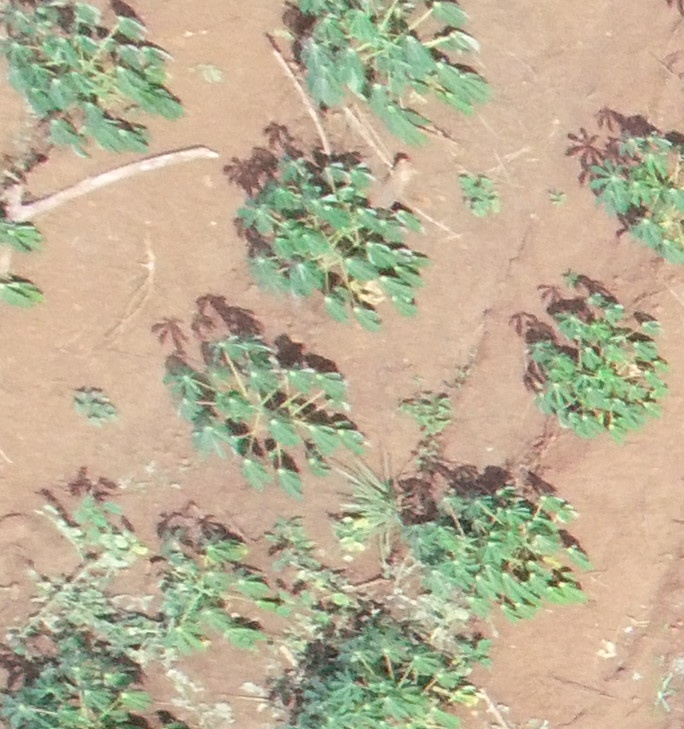stand: (243, 137, 439, 325), (155, 319, 360, 484), (419, 466, 598, 625), (258, 5, 481, 131), (519, 268, 669, 437), (8, 1, 171, 149), (146, 522, 271, 650), (585, 124, 684, 256)
